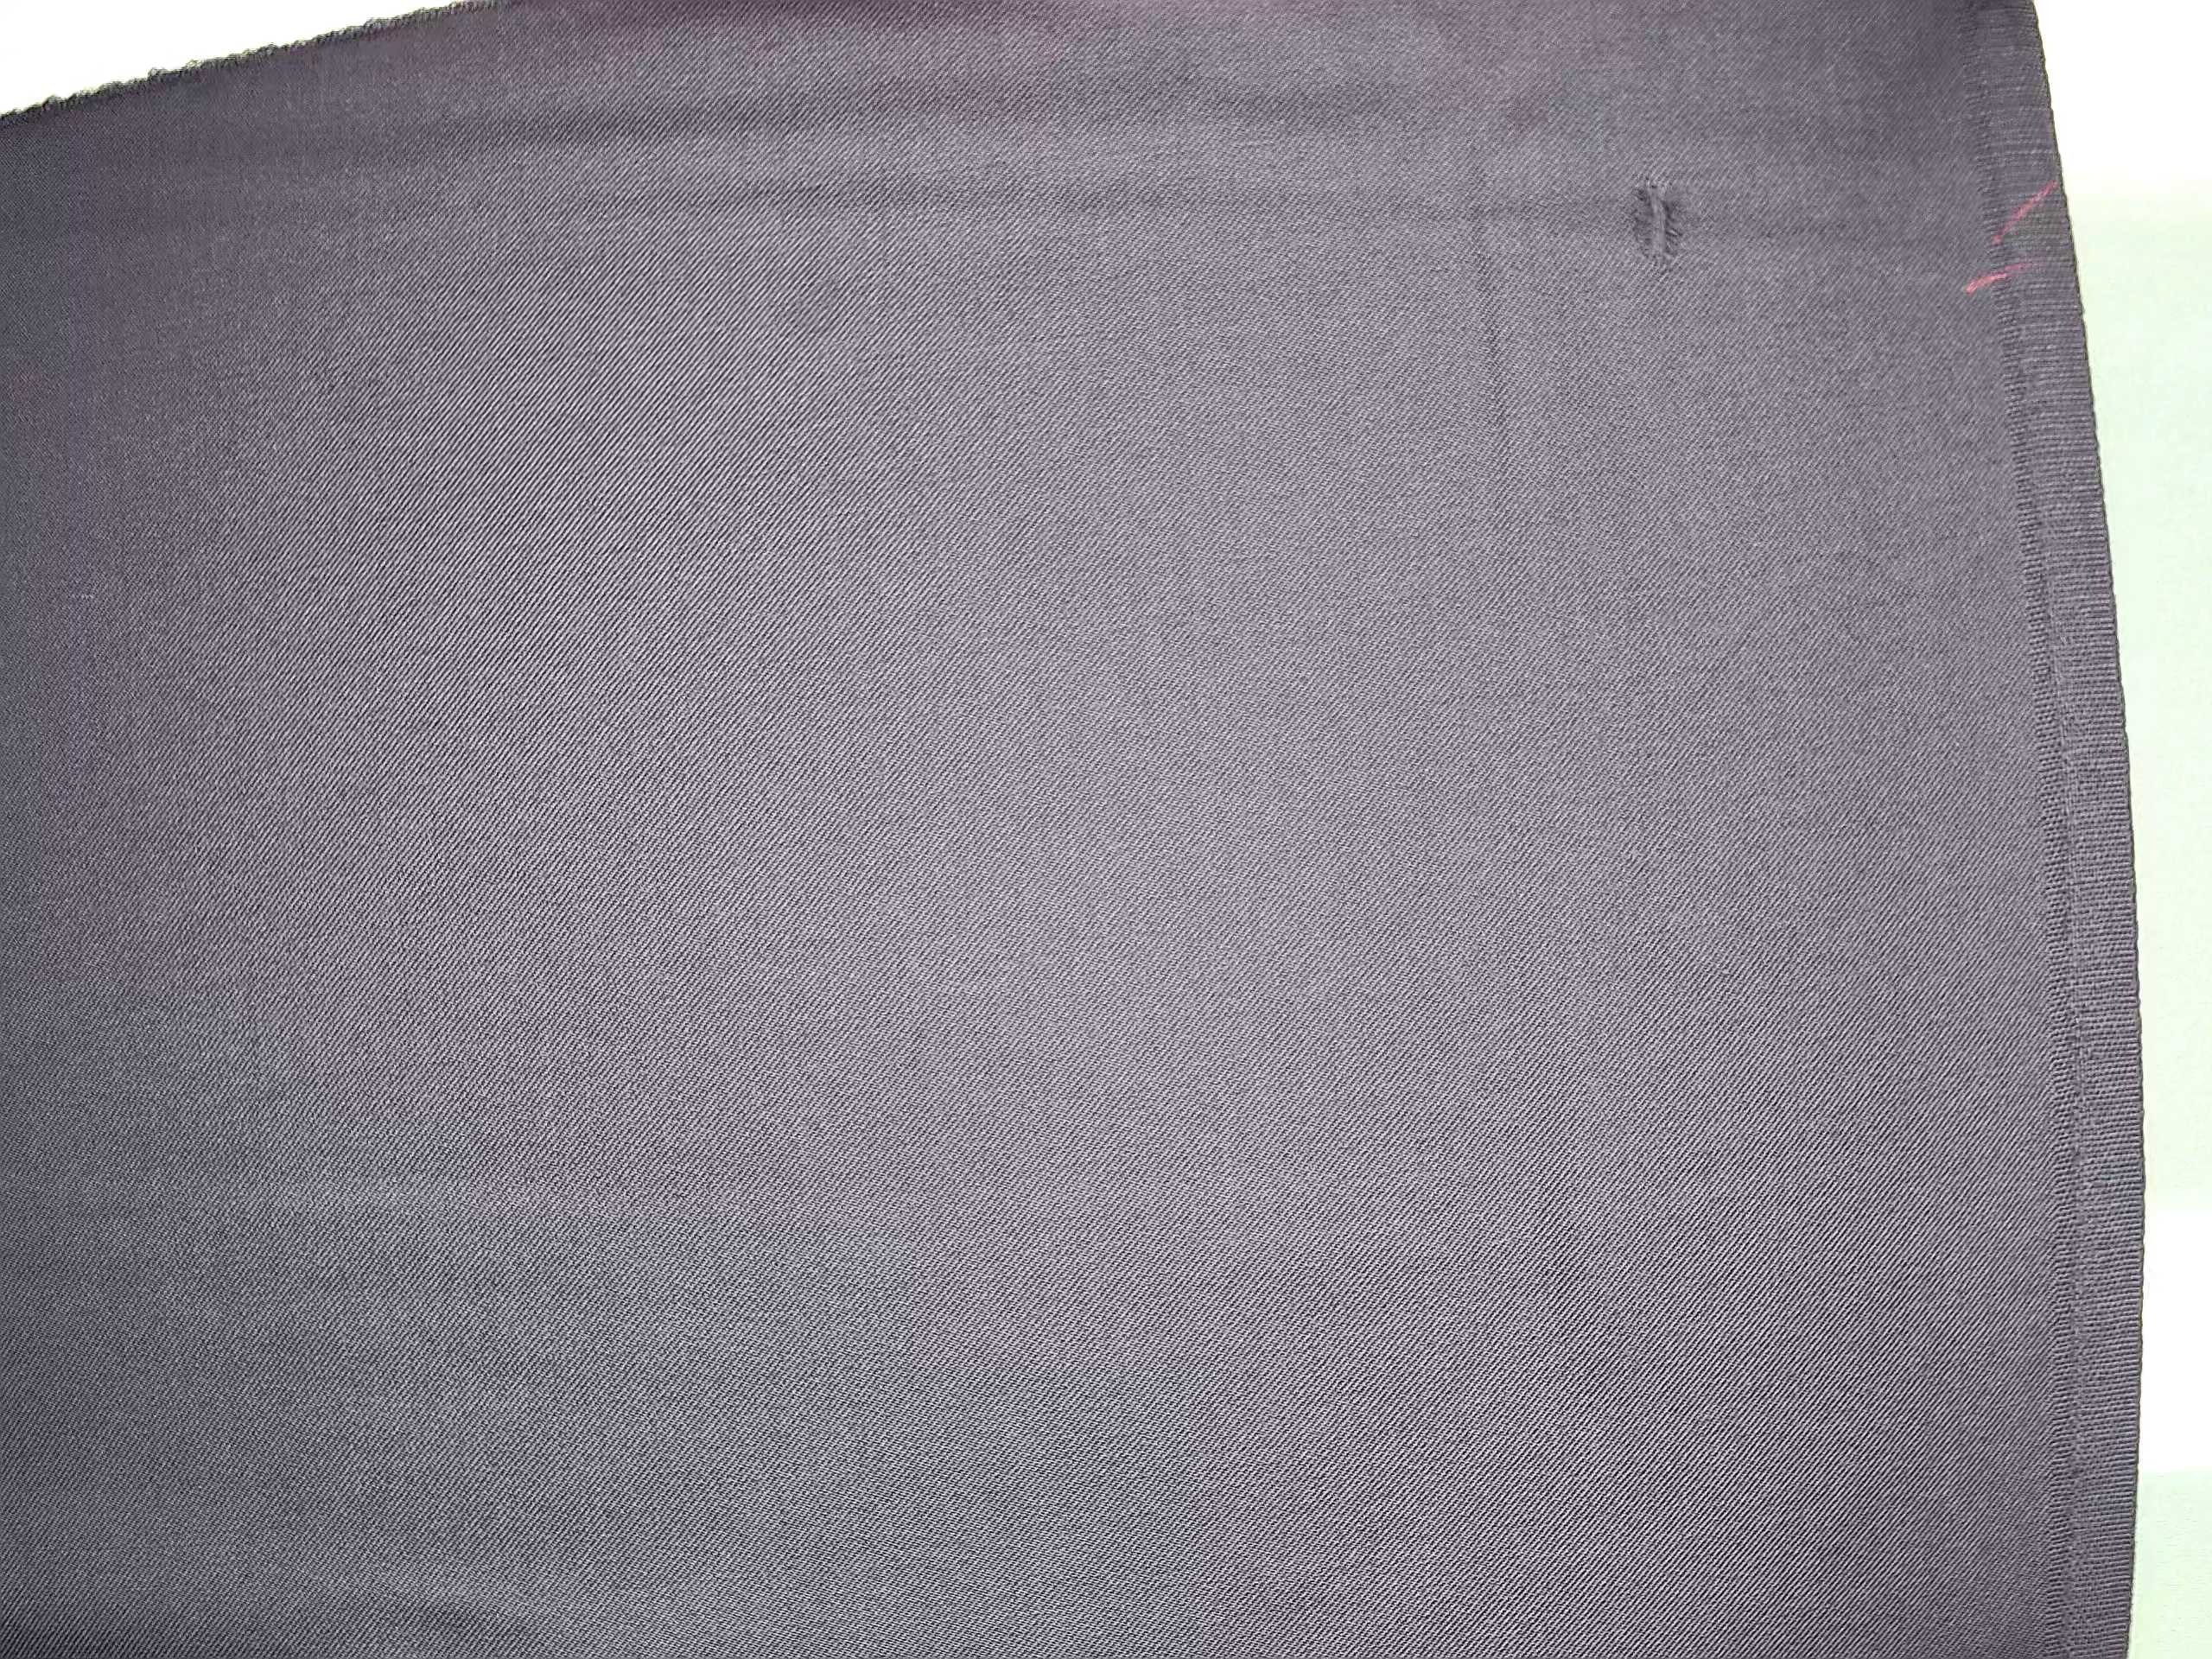rubbing-hole: (1615, 148, 1712, 293)
